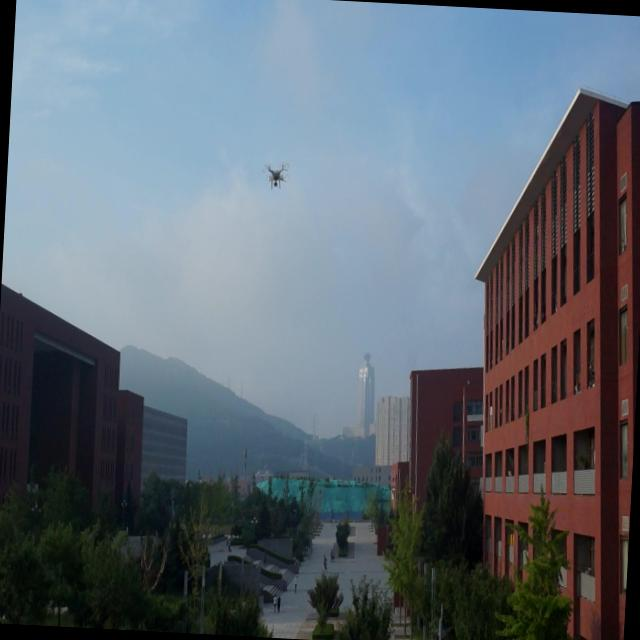drone: (260, 158, 293, 194)
